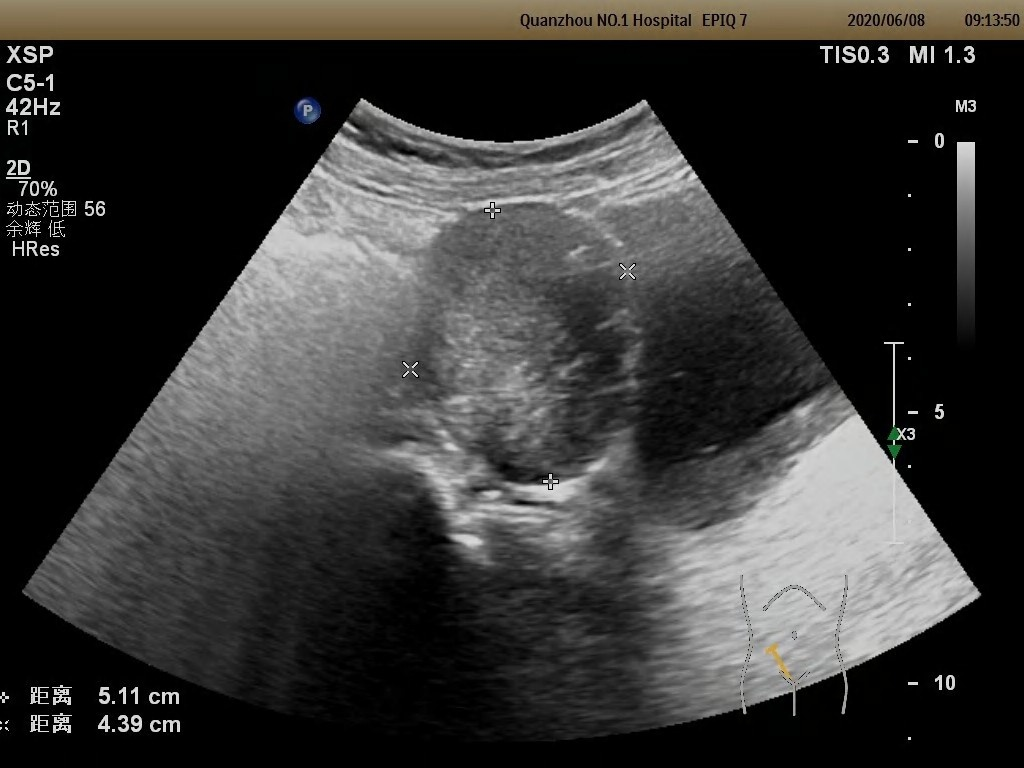肌瘤: (408, 204, 638, 485)
